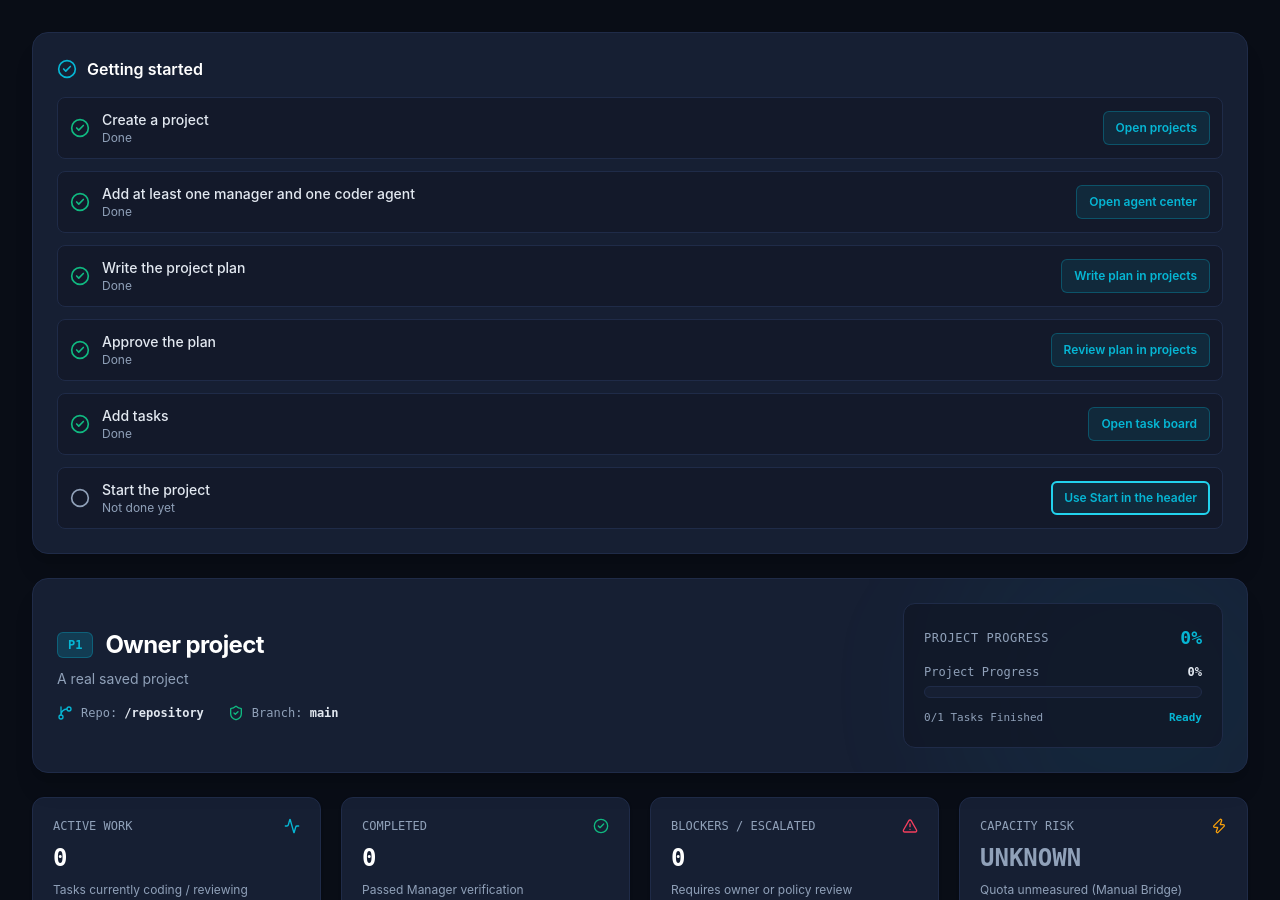
it: dashboard guide through the real providers in en-US › keeps the start step incomplete for READY and collapses setup only after the project starts
Expected: the element that starts with "Getting started" is shown, [32,32,1248,554]
Expected: the list item "Start the project Not done yet Use Start in the header" is shown, [57,467,1223,529]
Click the button "Use Start in the header": (1131, 498) [1051,481,1210,515]
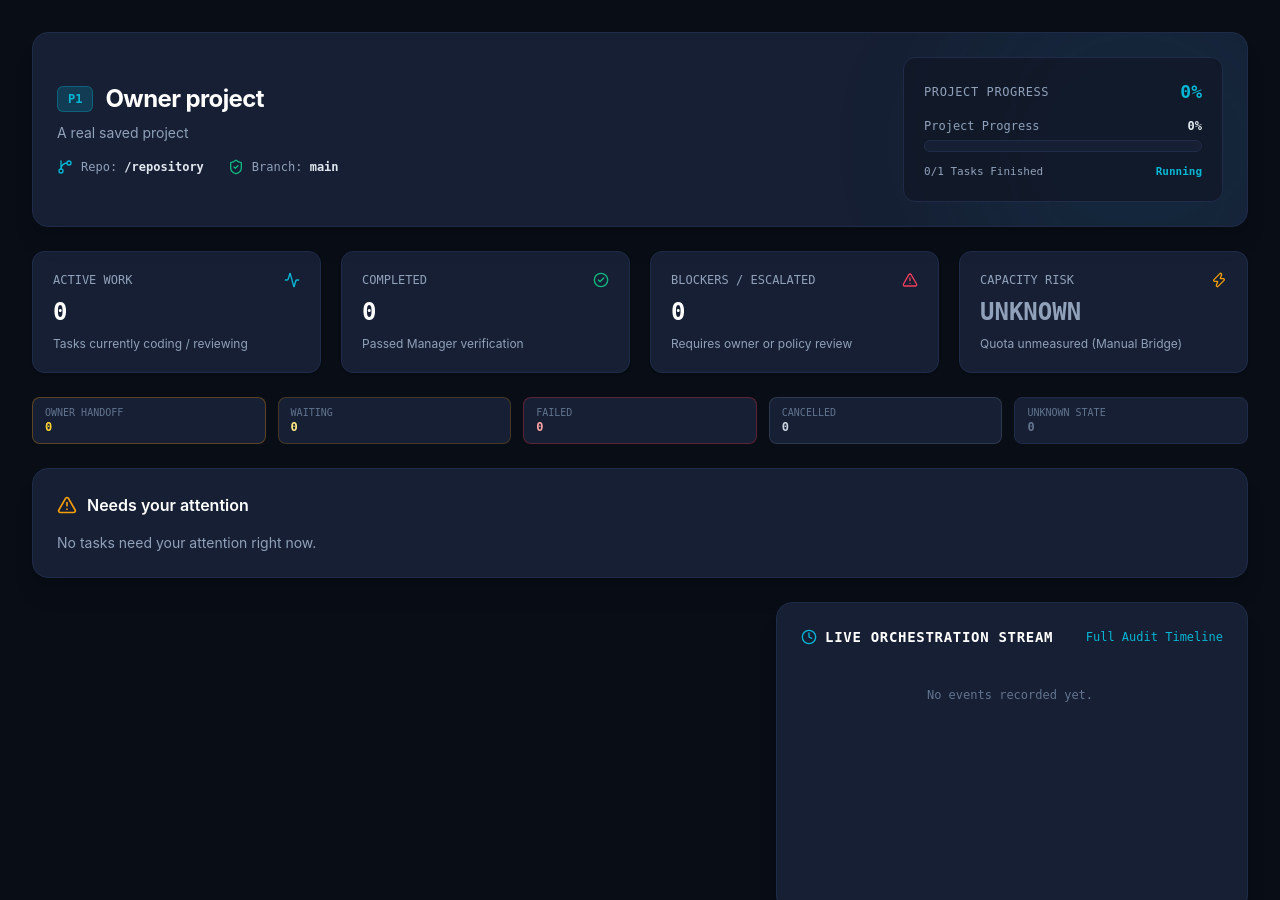
Result: the heading "Getting started" is gone
Result: the text "Getting started" is gone
Result: the text "Running" is shown at [1156,164,1202,180]
